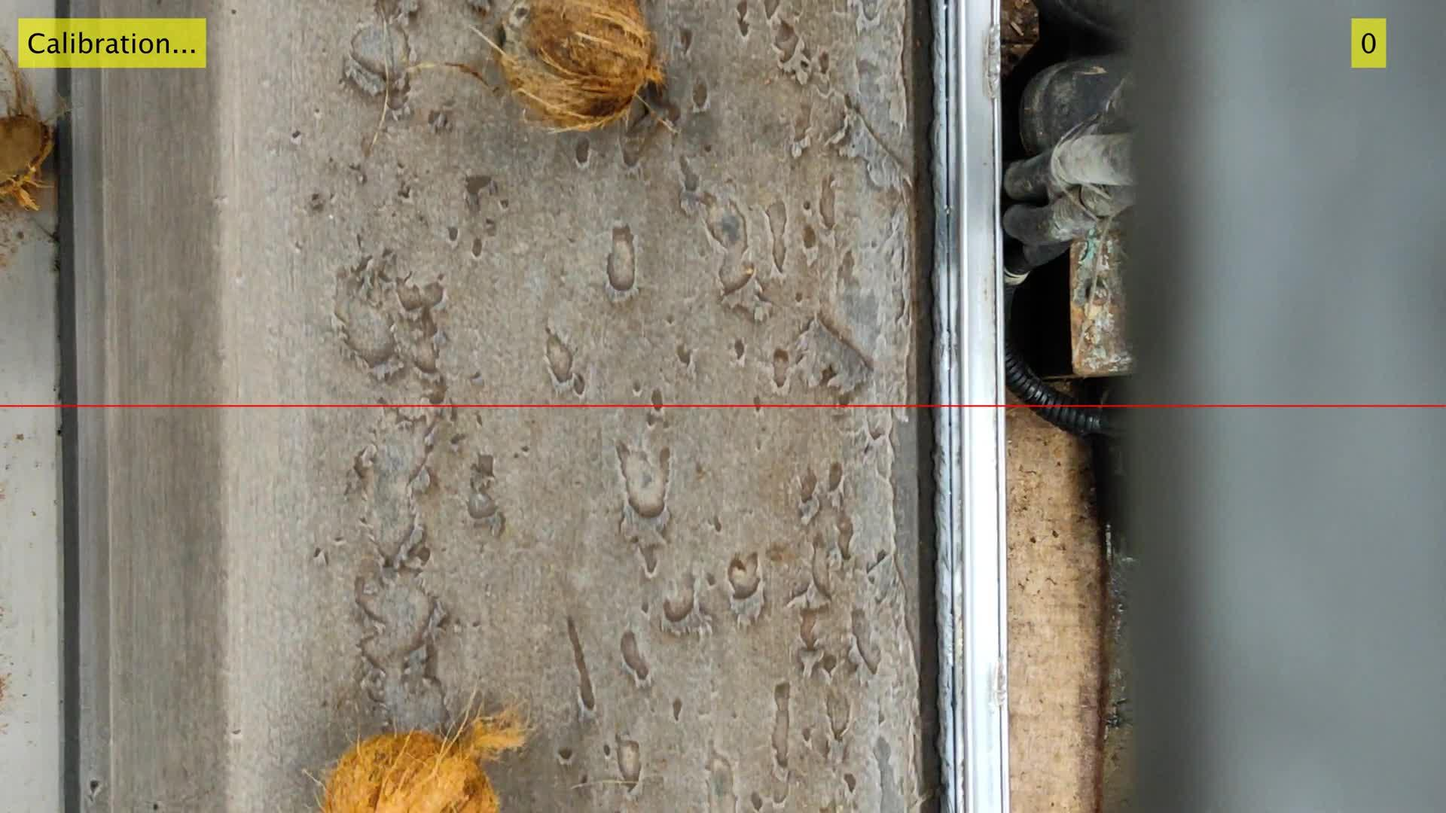Coconut: (313, 688, 535, 812), (488, 0, 664, 129), (0, 47, 53, 211)
